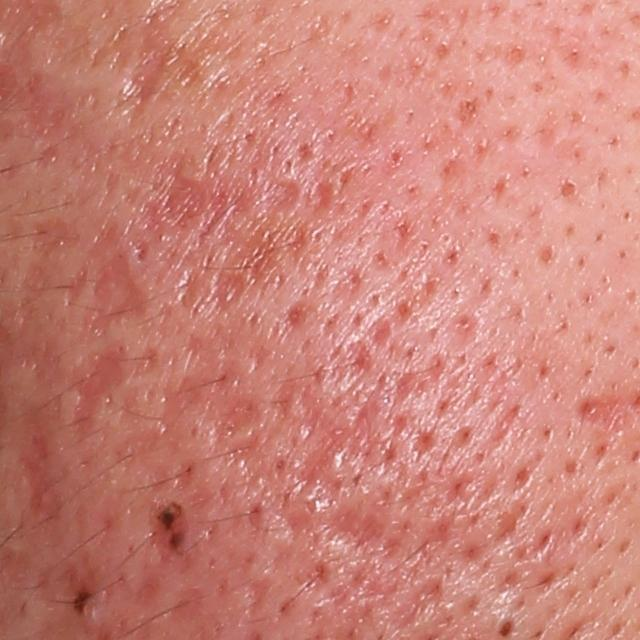atrophic_scar: (132, 150, 304, 230), (292, 371, 383, 493), (212, 218, 305, 310), (78, 247, 156, 346), (65, 340, 133, 440), (112, 20, 182, 111), (323, 508, 414, 575), (14, 407, 63, 525), (201, 395, 266, 471), (389, 574, 448, 637), (575, 395, 636, 439), (27, 218, 84, 262), (411, 511, 456, 564), (393, 357, 445, 399), (15, 261, 50, 298), (310, 178, 336, 216), (281, 298, 308, 334)
comedo: (553, 178, 582, 205)
nevus: (147, 496, 192, 560), (66, 587, 99, 620)
